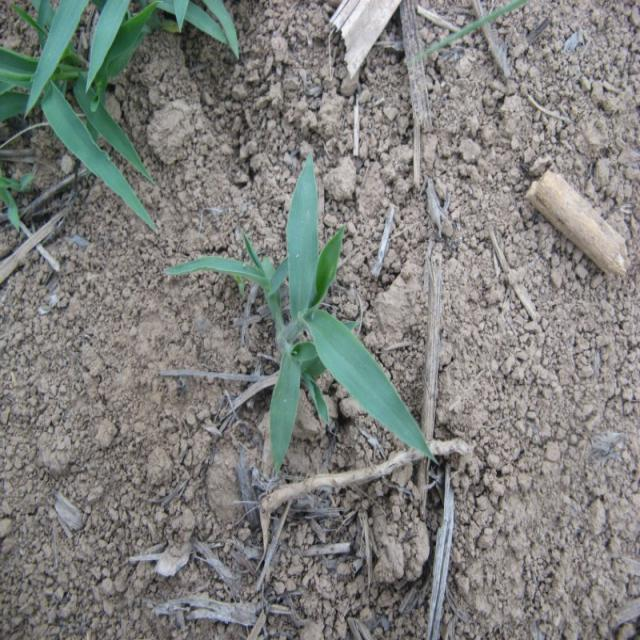bg: (162, 164, 438, 492)
